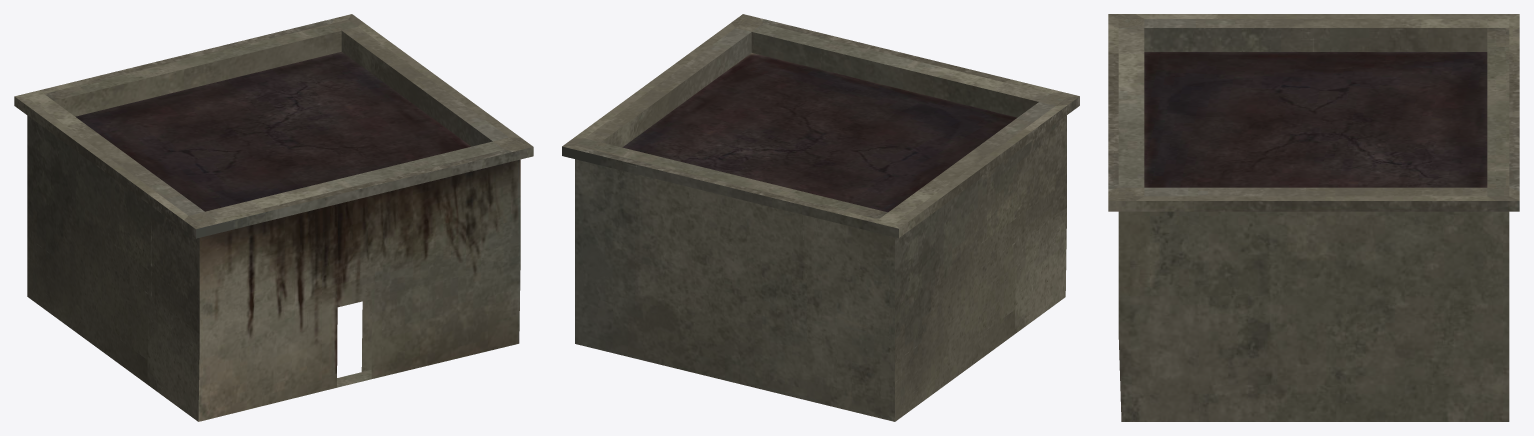
Rendered from watertreatment_building.fbx.
3 renders of one model, left to right at view 1: azimuth 30°, elevation 25°; view 2: azimuth 150°, elevation 25°; view 3: azimuth 270°, elevation 25°, orthographic. The views are drawn at different scales.
Parts seen in each view (by area): view 1: pCube1; view 2: pCube1; view 3: pCube1.
Part boxes in pixels (x1,y1,x2,y2): pCube1: [14, 14, 533, 421]; pCube1: [562, 14, 1079, 421]; pCube1: [1108, 14, 1519, 421].
Size of the model in its own units: 751 by 424 by 699.
